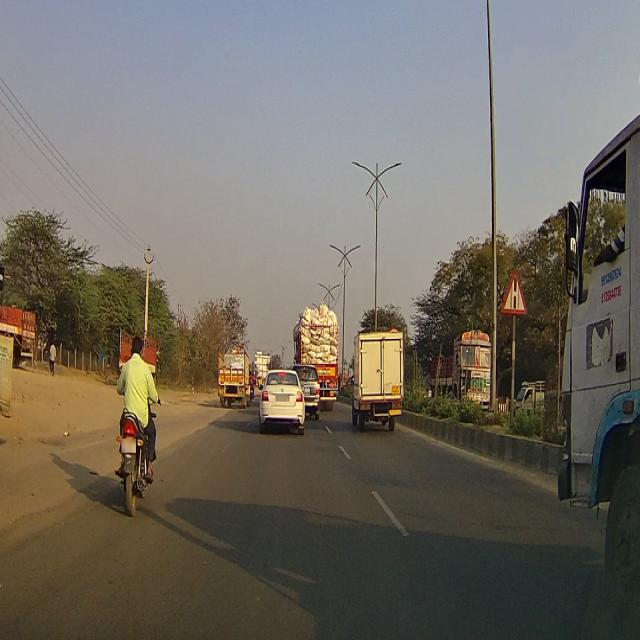gap-in-median: (502, 269, 524, 315)
